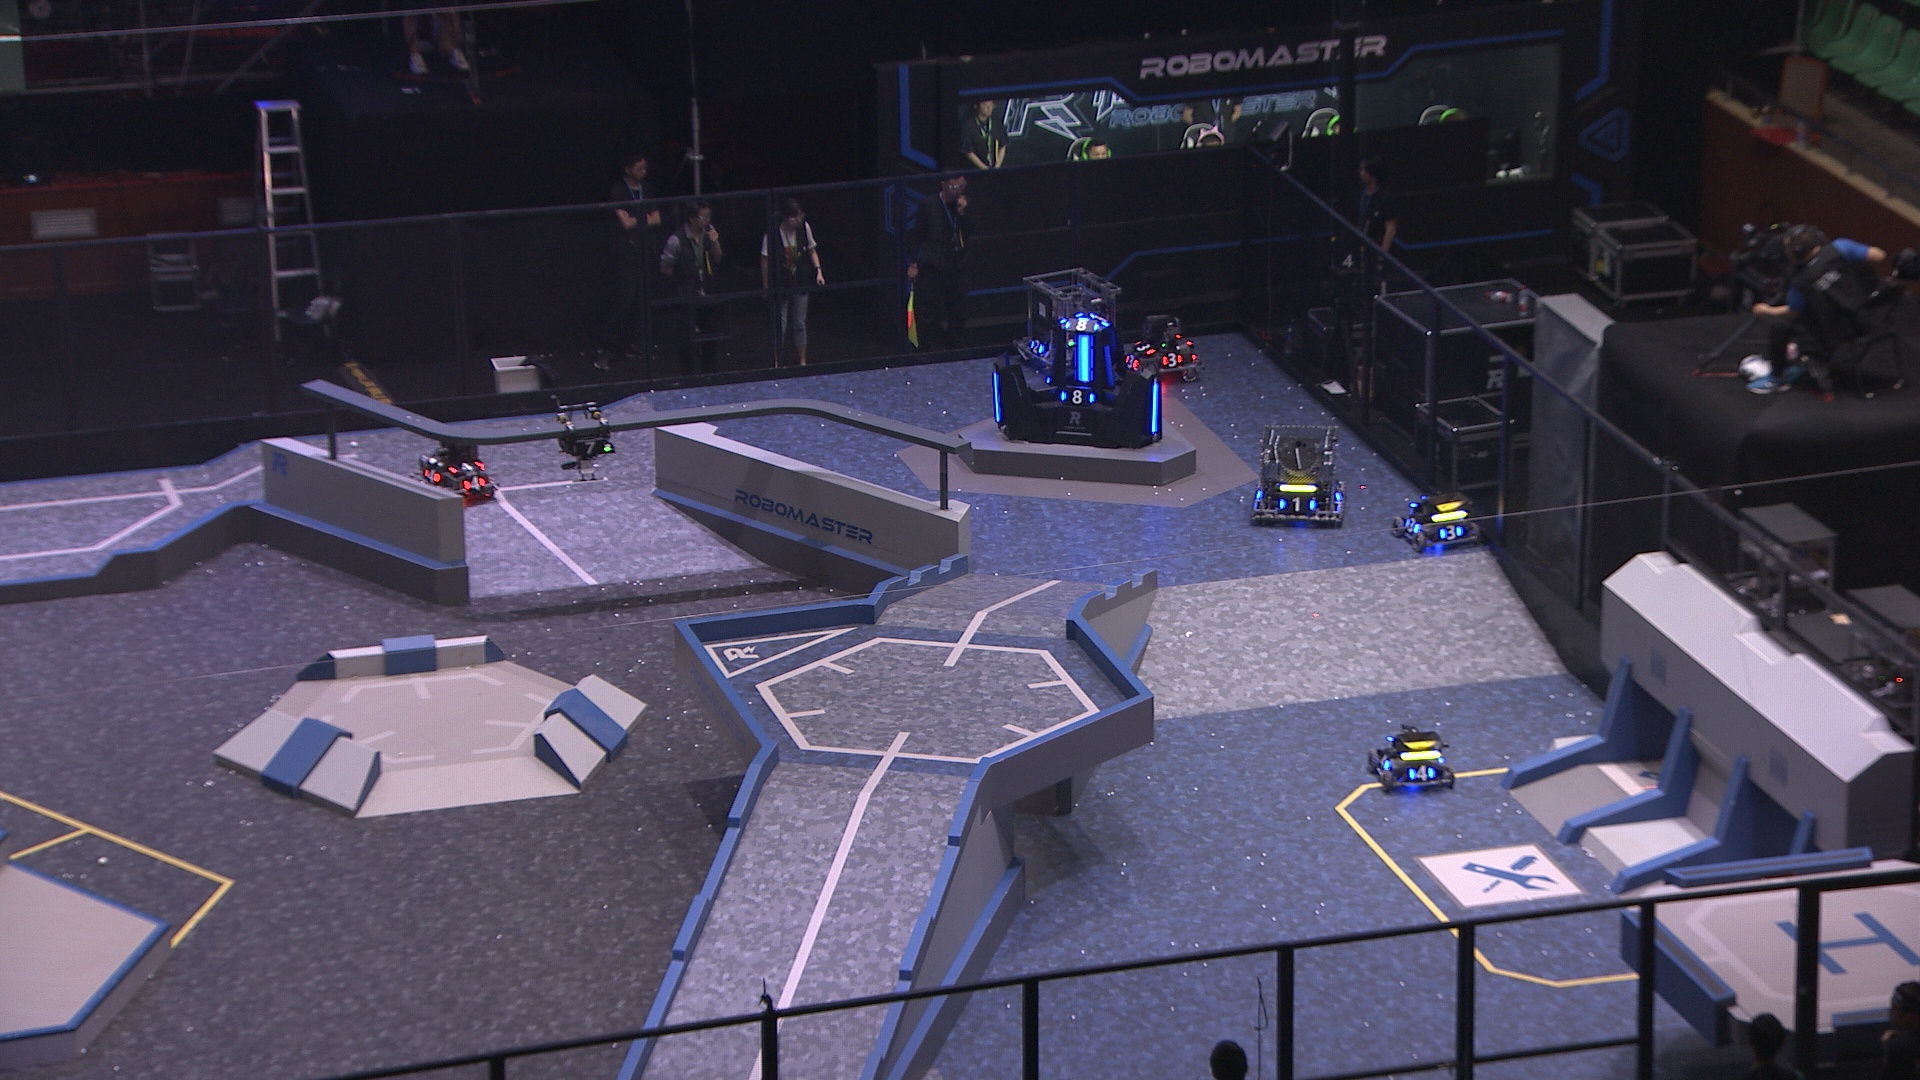armor: (989, 371, 1010, 425), (1073, 334, 1096, 384), (570, 439, 613, 458), (1149, 377, 1160, 436), (1063, 314, 1097, 334), (1058, 389, 1097, 406), (1280, 496, 1315, 514), (1408, 764, 1437, 783), (458, 473, 487, 493), (447, 460, 485, 475), (1437, 522, 1465, 542), (422, 463, 444, 485), (1158, 351, 1183, 367), (1134, 338, 1158, 353), (1375, 754, 1394, 774), (1403, 516, 1420, 537), (1027, 338, 1046, 356), (1120, 353, 1139, 371), (1332, 480, 1346, 502), (1091, 313, 1109, 328)
base: (984, 309, 1164, 451)
car: (1011, 264, 1134, 377), (1247, 423, 1352, 531), (1367, 723, 1461, 798), (1391, 484, 1481, 551), (415, 438, 500, 509), (1124, 314, 1201, 378)
watcher: (550, 396, 615, 481)
